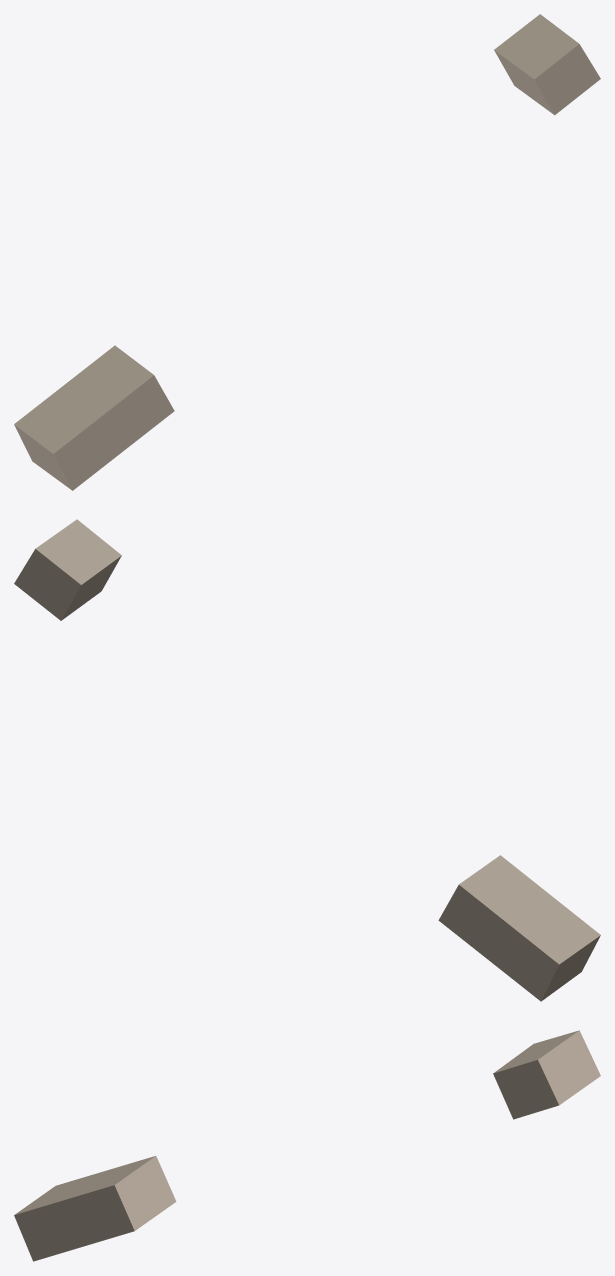
The picture shows the model from 3 angles, top to bottom: view 1: azimuth 30°, elevation 25°; view 2: azimuth 150°, elevation 25°; view 3: azimuth 330°, elevation 25°; orthographic projection.
Bounding box in the file's own units: 0.5459 × 0.311 × 0.0744.
